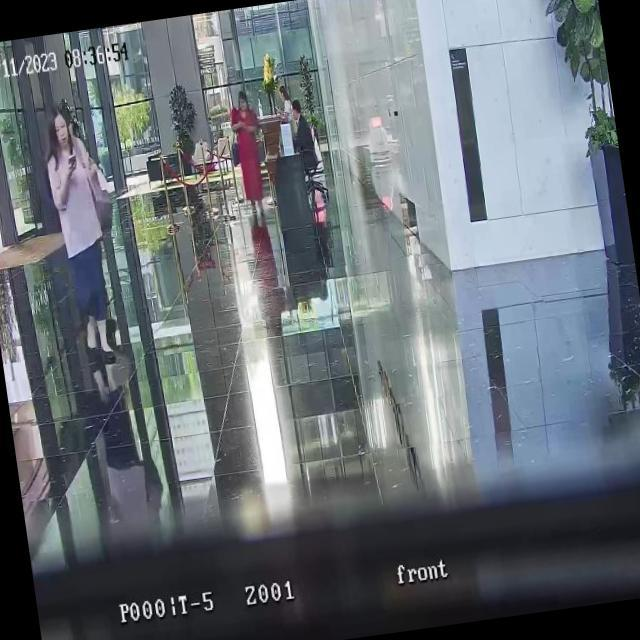person: (40, 106, 126, 367), (224, 89, 274, 220), (288, 97, 316, 170), (276, 83, 295, 124)
